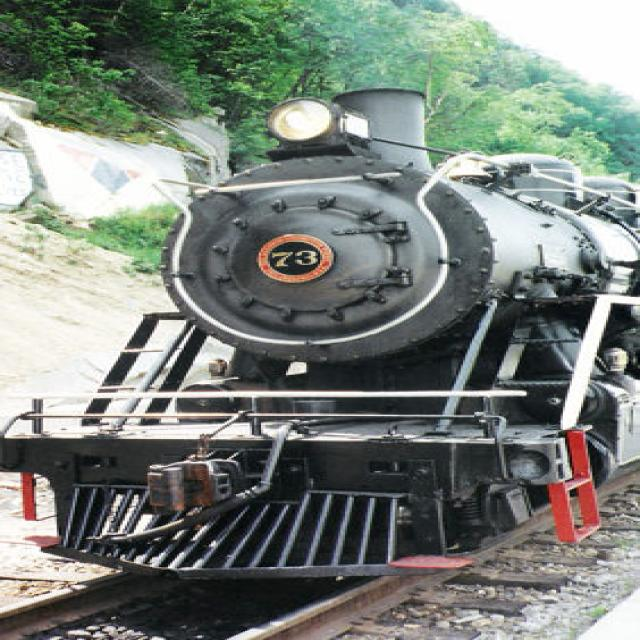train: (1, 88, 639, 582)
